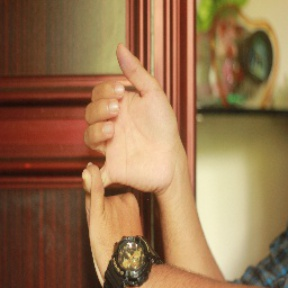S: (78, 42, 187, 280)
